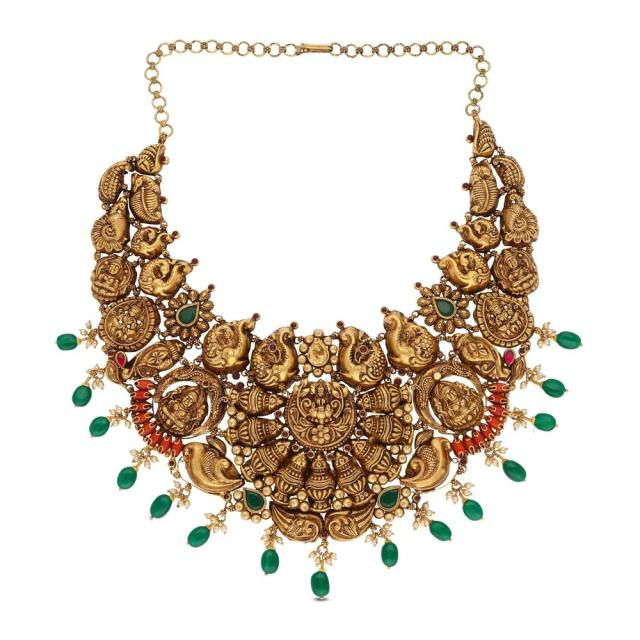missing gem: (308, 338, 329, 367), (433, 371, 442, 380)
